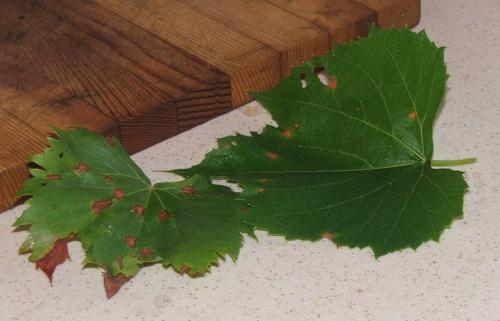grape leaf: (180, 25, 476, 264), (1, 134, 244, 309)
